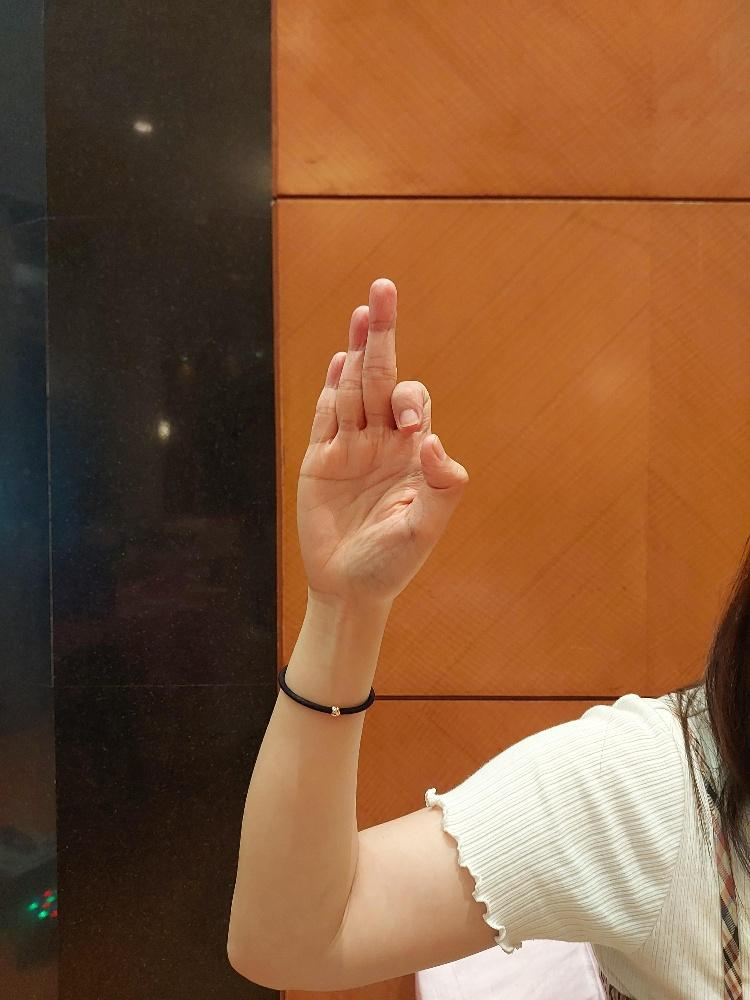f: (293, 275, 470, 604)
